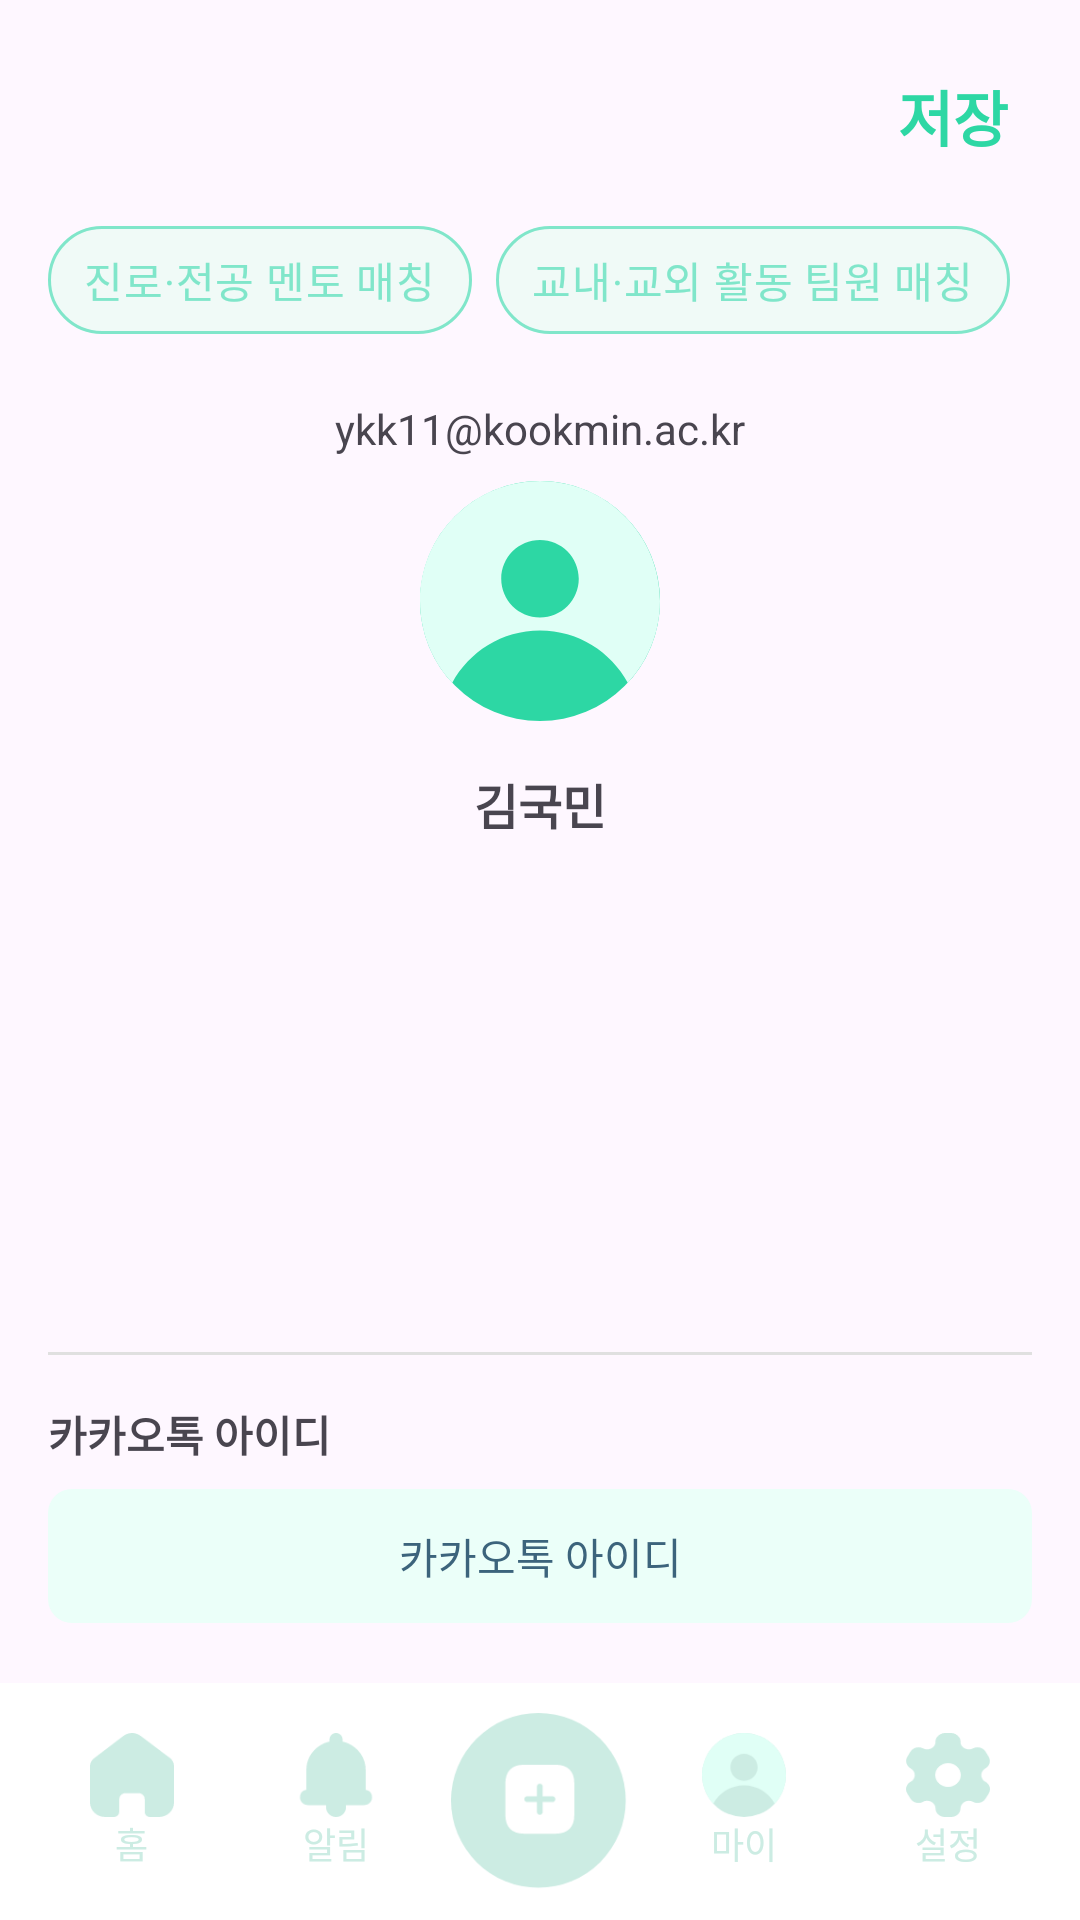

Icons on this 1080x1920 Android screen, each with its box as Rect(x1, y1, x2, y2):
matching non: Rect(451, 1713, 626, 1888)
프로필 이미지: Rect(420, 481, 660, 721)
